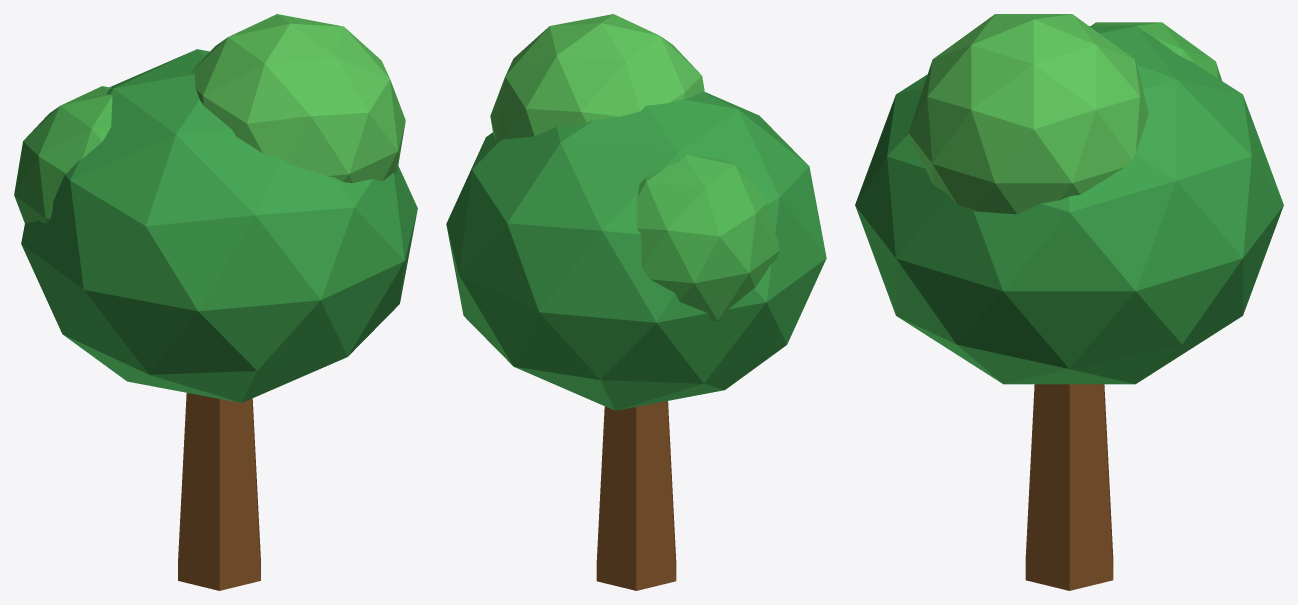
File: tree.glb
3 renders of one model, left to right at view 1: azimuth 30°, elevation 25°; view 2: azimuth 150°, elevation 25°; view 3: azimuth 270°, elevation 25°, orthographic. The views are drawn at different scales.
Parts seen in each view (by area): view 1: Canopy, Canopy2, Trunk, Canopy3; view 2: Canopy, Canopy2, Canopy3, Trunk; view 3: Canopy, Canopy2, Trunk, Canopy3.
Part boxes in pixels (box(x1,y1,x2,y2)): Canopy: box(21, 49, 417, 402); Canopy2: box(191, 14, 405, 182); Trunk: box(178, 393, 260, 590); Canopy3: box(14, 86, 112, 223); Canopy: box(446, 92, 826, 410); Canopy2: box(490, 14, 704, 141); Canopy3: box(637, 154, 779, 321); Trunk: box(596, 401, 676, 590); Canopy: box(855, 26, 1283, 384); Canopy2: box(908, 14, 1148, 214); Trunk: box(1025, 384, 1113, 590); Canopy3: box(1091, 22, 1221, 80).
Size of the model in its own units: 1.37 by 2.14 by 1.44.
